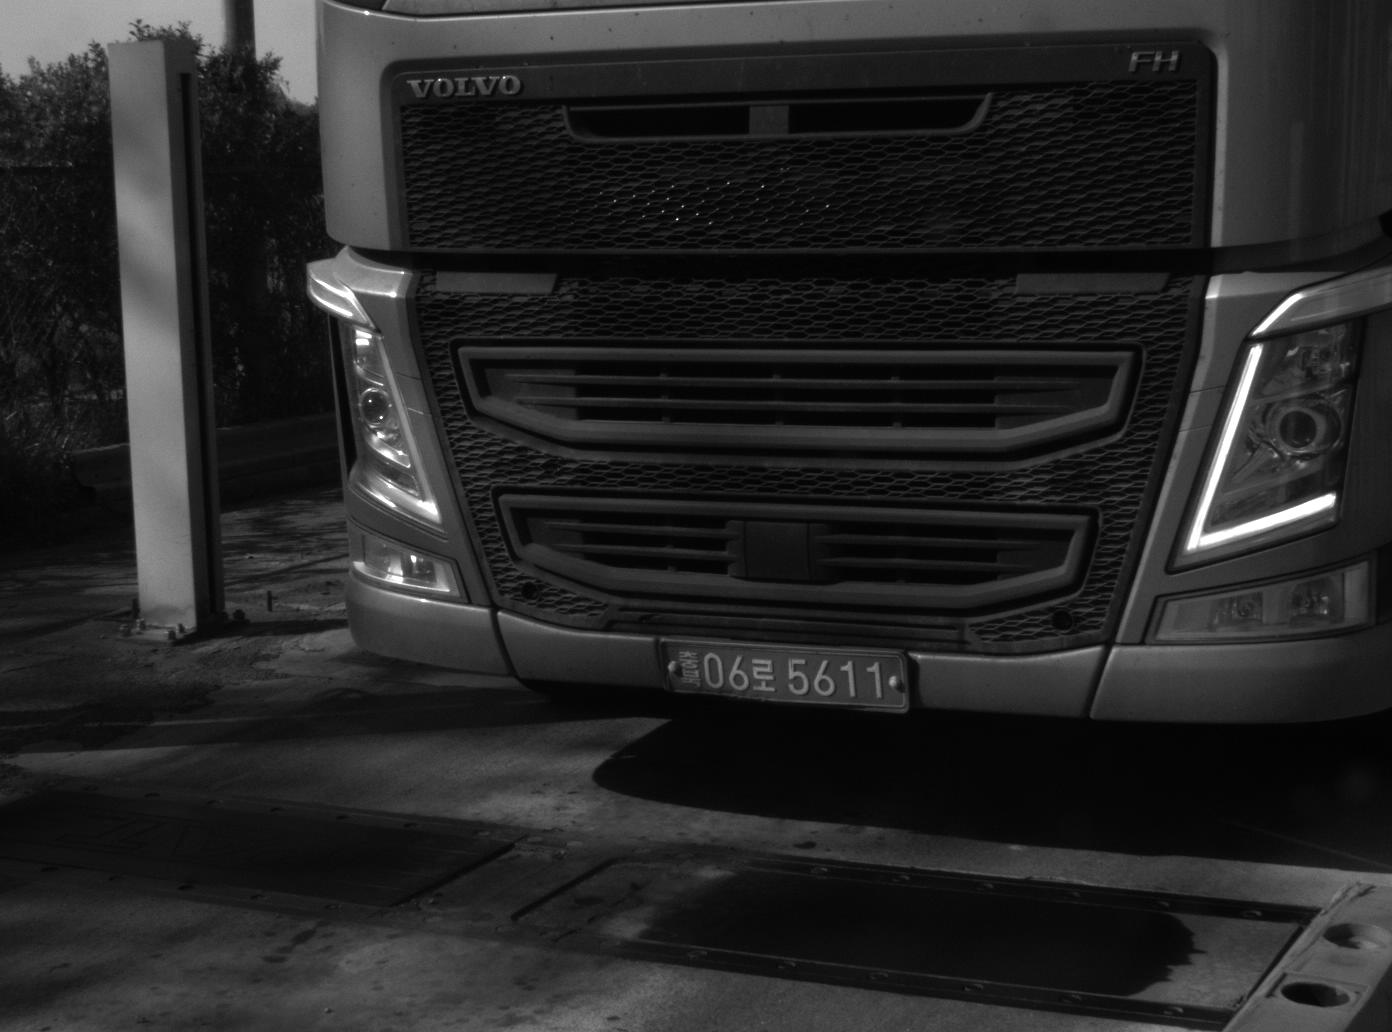car: (293, 1, 1383, 769)
plate: (650, 632, 915, 714)
